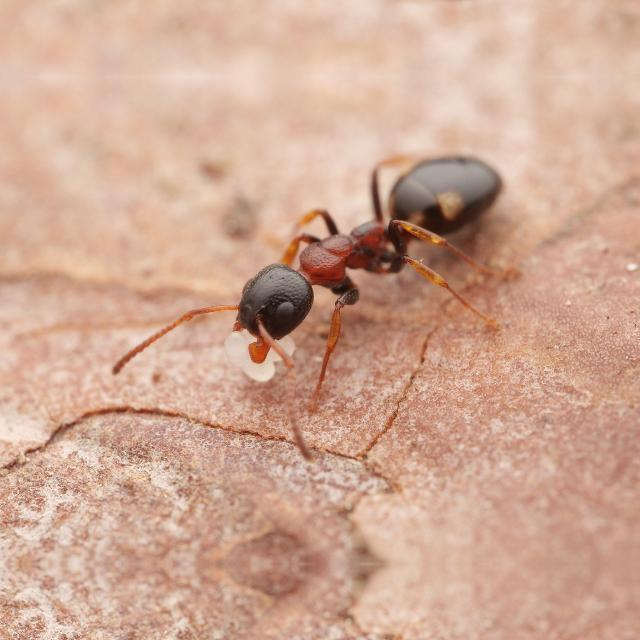Dolichoderus: (181, 133, 521, 367)
